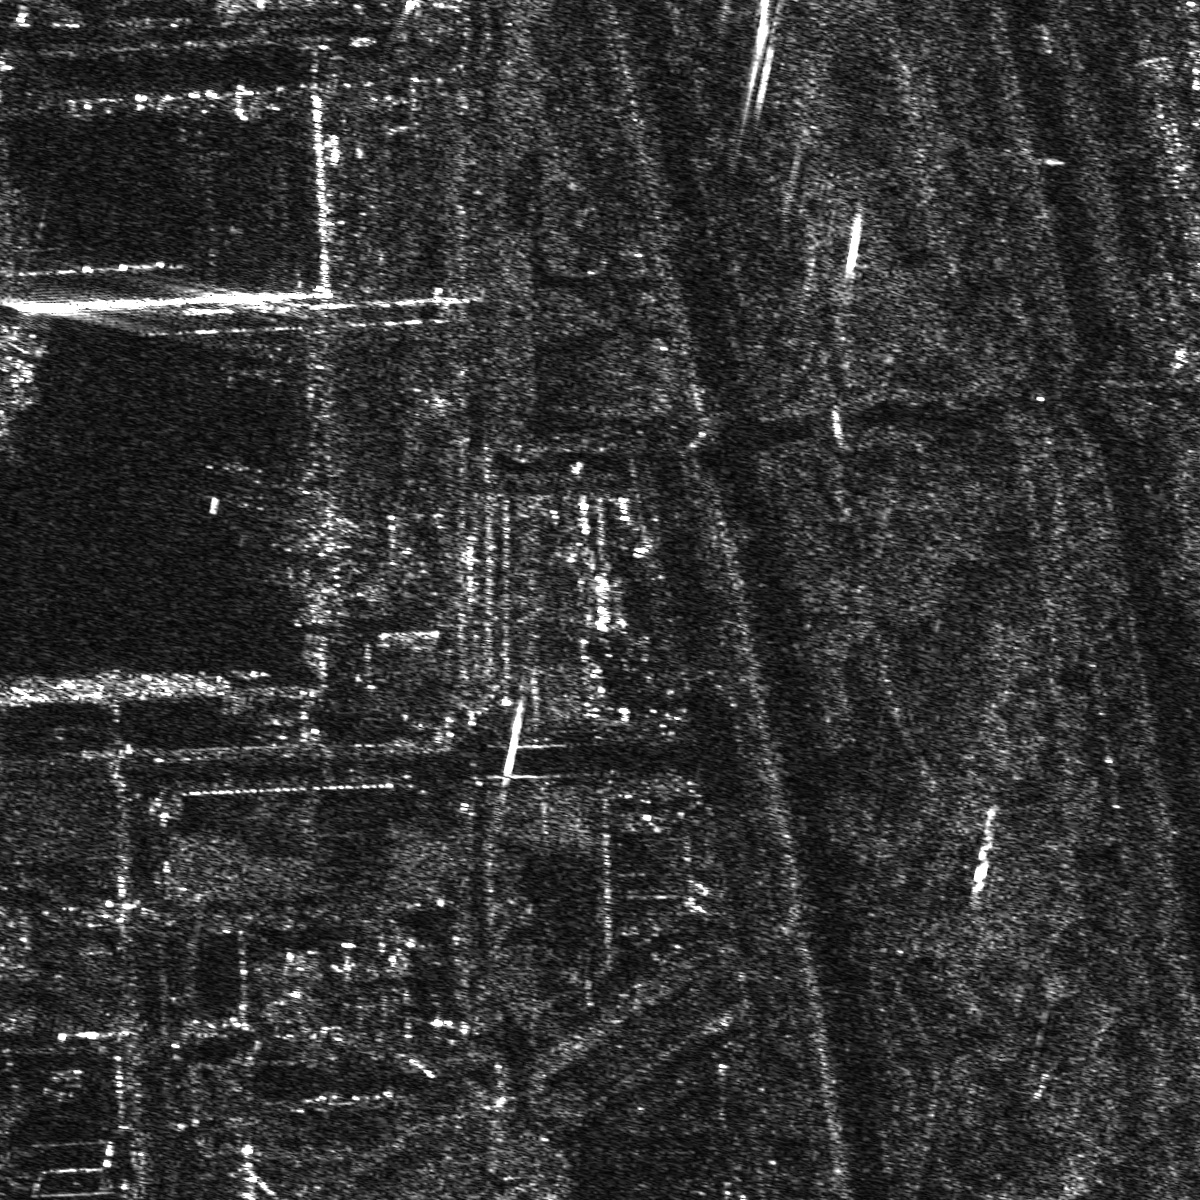A220: (205, 448, 269, 513)
